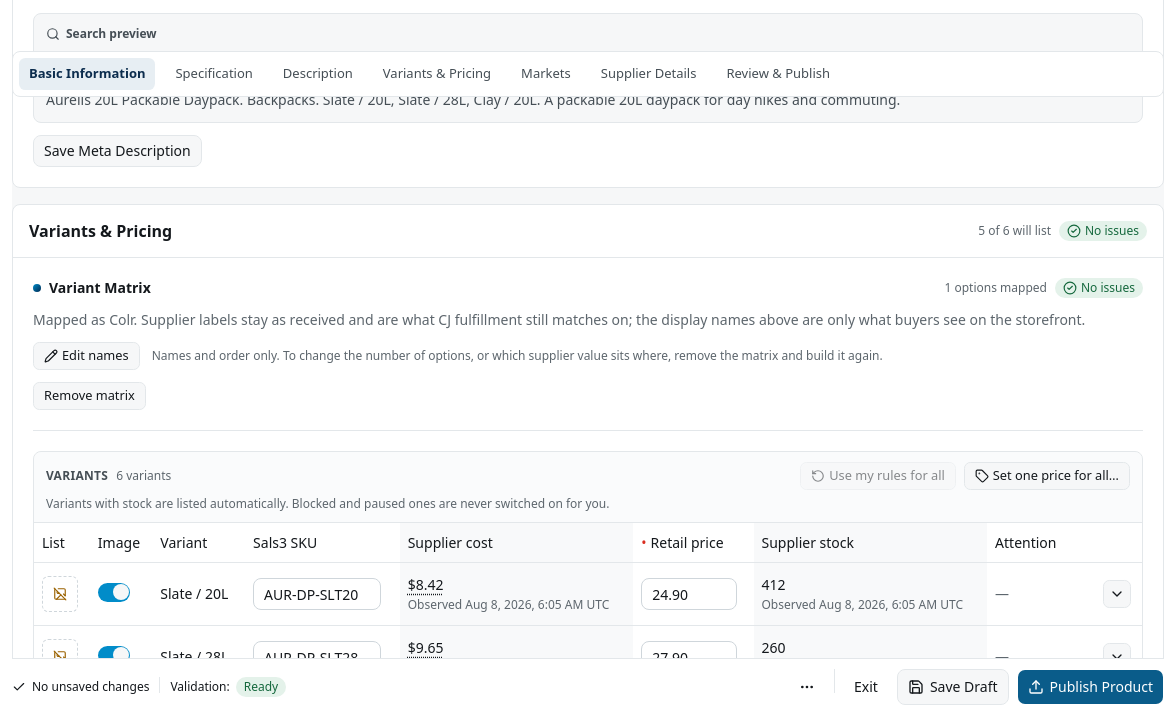
Test: Variant Matrix - renaming a saved mapping › shows the supplier value beside the name, read-only
(page scrolled)
Click the button "Edit names" at (86,356), box [33,342,140,370]
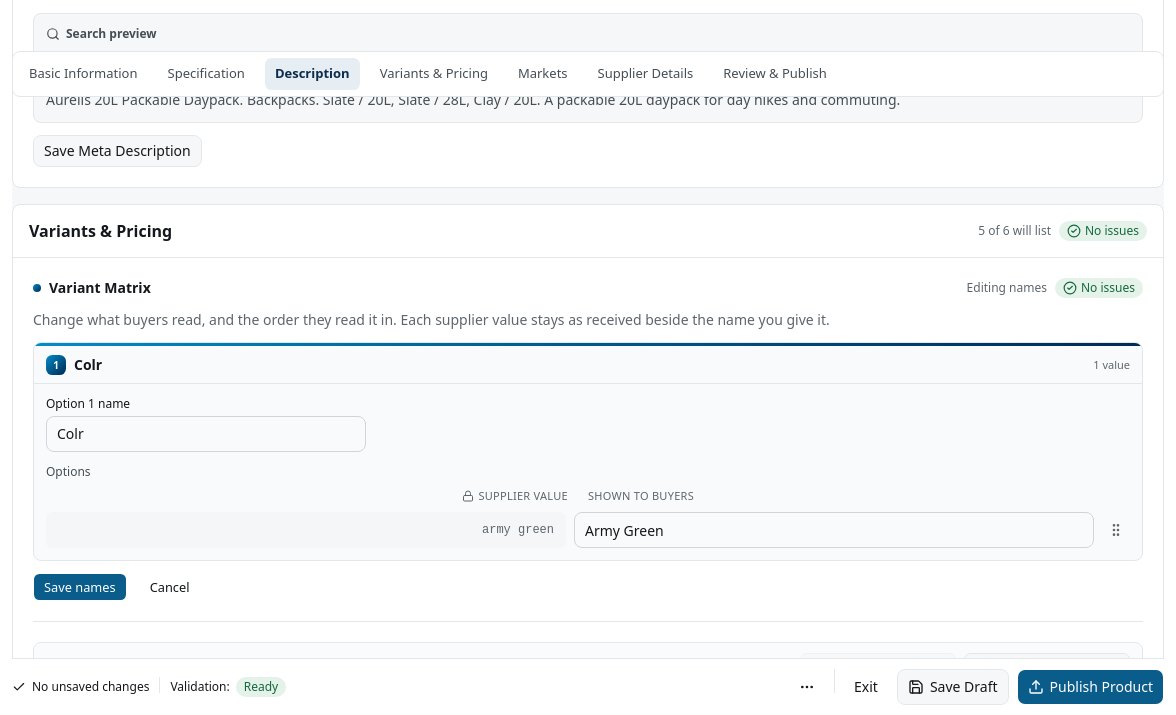
Result: the text "army green" is shown at [482,522,554,538]
